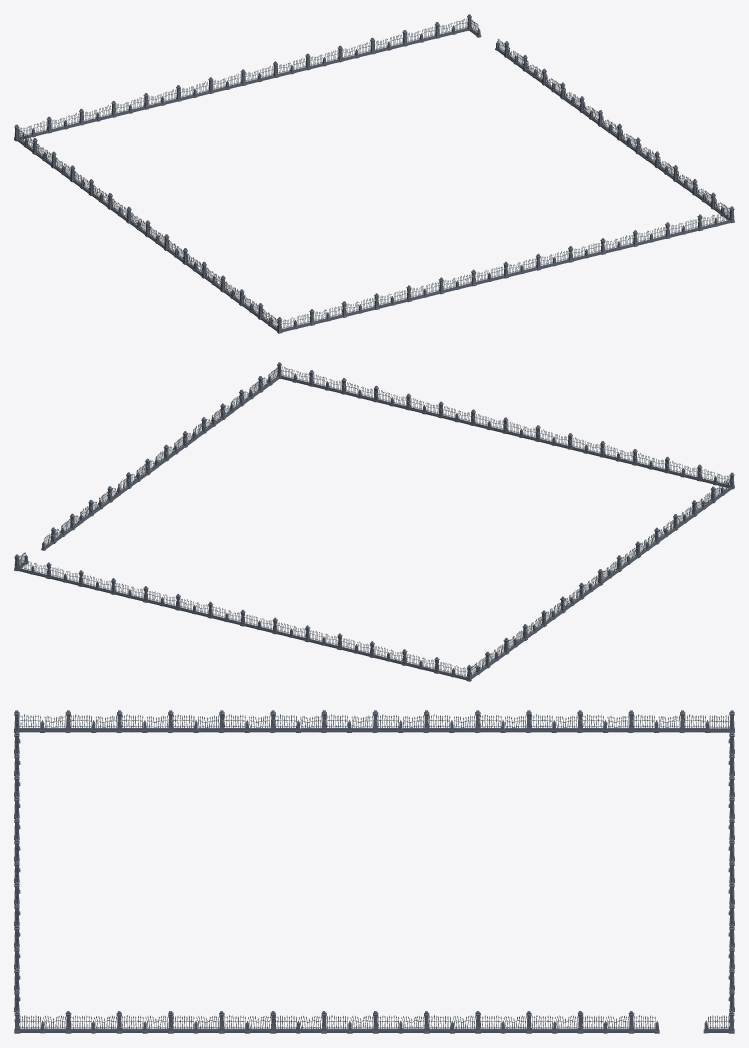
The model's file is OuterFence.fbx.
3 views of the same model, one above another, from view 1: azimuth 30°, elevation 25°; view 2: azimuth 150°, elevation 25°; view 3: azimuth 270°, elevation 25° (orthographic). The views are drawn at different scales.
Parts seen in each view (by area): view 1: Stonepillar.002; view 2: Stonepillar.002; view 3: Stonepillar.002.
Boxes of the visible parts, bbox=[...] form: Stonepillar.002: bbox=[14, 14, 734, 333]; Stonepillar.002: bbox=[14, 362, 734, 681]; Stonepillar.002: bbox=[14, 710, 734, 1033].
Size of the model in its own units: 15757 by 511 by 15823.
